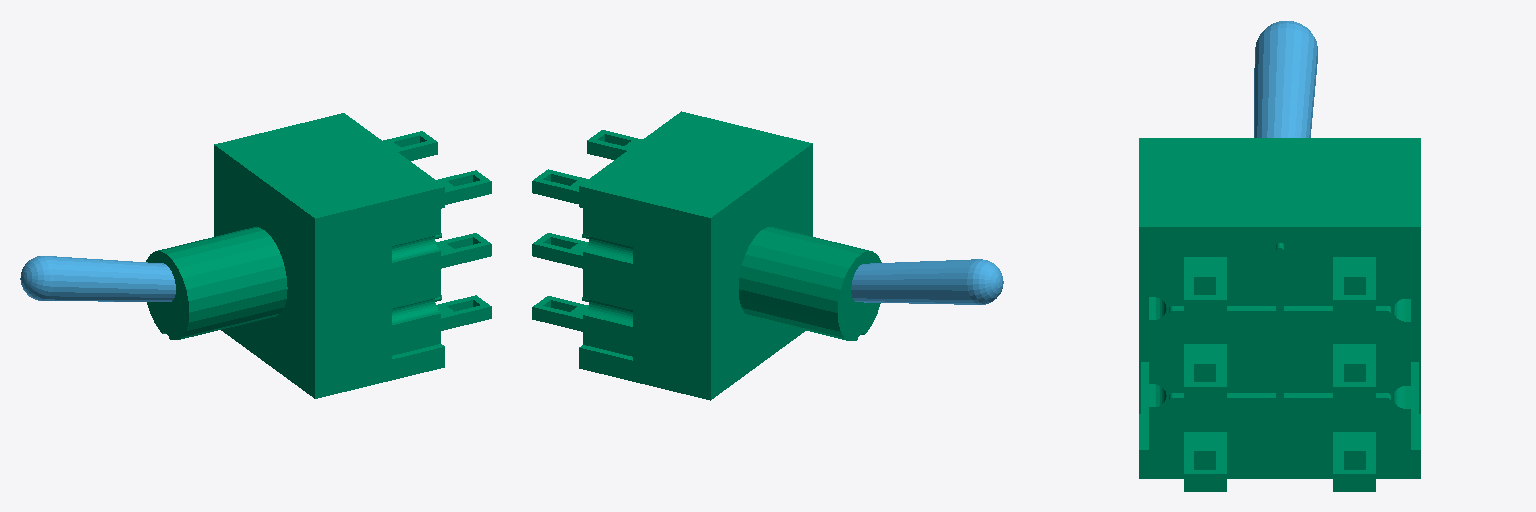
URDF robot description (partnet_efa22b97f47a8b3558451d47ce84cde7):
<robot name="partnet_efa22b97f47a8b3558451d47ce84cde7">
	<link name="base"><inertial><mass value="10" /><inertia ixx="1" ixy="0" ixz="0" iyy="1" iyz="0" izz="1" /></inertial></link>
	<link name="link_0">
		<visual name="switch-1">
			<origin xyz="-0.13821602207966688 0.025505218476348797 -0.36373281829417325" />
			<geometry>
				<mesh filename="textured_objs/original-30.obj" />
			</geometry>
		</visual>
		<collision>
			<origin xyz="-0.13821602207966688 0.025505218476348797 -0.36373281829417325" />
			<geometry>
				<mesh filename="textured_objs/original-30.obj" />
			</geometry>
		</collision>
	<inertial><mass value="10" /><inertia ixx="1" ixy="0" ixz="0" iyy="1" iyz="0" izz="1" /></inertial></link>
	<joint name="joint_0" type="revolute">
		<origin xyz="0.13821602207966688 -0.025505218476348797 0.36373281829417325" />
		<axis xyz="1 0 0" />
		<child link="link_0" />
		<parent link="link_1" />
		<limit effort="30" lower="0.0" upper="0.5235987755982988" velocity="1.0" />
	</joint>
	<link name="link_1">
		<visual name="base_body-2">
			<origin xyz="0 0 0" />
			<geometry>
				<mesh filename="textured_objs/original-29.obj" />
			</geometry>
		</visual>
		<visual name="base_body-2">
			<origin xyz="0 0 0" />
			<geometry>
				<mesh filename="textured_objs/original-21.obj" />
			</geometry>
		</visual>
		<visual name="base_body-2">
			<origin xyz="0 0 0" />
			<geometry>
				<mesh filename="textured_objs/original-28.obj" />
			</geometry>
		</visual>
		<visual name="base_body-2">
			<origin xyz="0 0 0" />
			<geometry>
				<mesh filename="textured_objs/original-22.obj" />
			</geometry>
		</visual>
		<visual name="base_body-2">
			<origin xyz="0 0 0" />
			<geometry>
				<mesh filename="textured_objs/original-26.obj" />
			</geometry>
		</visual>
		<visual name="base_body-2">
			<origin xyz="0 0 0" />
			<geometry>
				<mesh filename="textured_objs/original-3.obj" />
			</geometry>
		</visual>
		<visual name="base_body-2">
			<origin xyz="0 0 0" />
			<geometry>
				<mesh filename="textured_objs/original-2.obj" />
			</geometry>
		</visual>
		<visual name="base_body-2">
			<origin xyz="0 0 0" />
			<geometry>
				<mesh filename="textured_objs/original-8.obj" />
			</geometry>
		</visual>
		<visual name="base_body-2">
			<origin xyz="0 0 0" />
			<geometry>
				<mesh filename="textured_objs/original-9.obj" />
			</geometry>
		</visual>
		<visual name="base_body-2">
			<origin xyz="0 0 0" />
			<geometry>
				<mesh filename="textured_objs/original-5.obj" />
			</geometry>
		</visual>
		<visual name="base_body-2">
			<origin xyz="0 0 0" />
			<geometry>
				<mesh filename="textured_objs/original-6.obj" />
			</geometry>
		</visual>
		<visual name="base_body-2">
			<origin xyz="0 0 0" />
			<geometry>
				<mesh filename="textured_objs/original-15.obj" />
			</geometry>
		</visual>
		<visual name="base_body-2">
			<origin xyz="0 0 0" />
			<geometry>
				<mesh filename="textured_objs/original-23.obj" />
			</geometry>
		</visual>
		<visual name="base_body-2">
			<origin xyz="0 0 0" />
			<geometry>
				<mesh filename="textured_objs/original-11.obj" />
			</geometry>
		</visual>
		<visual name="base_body-2">
			<origin xyz="0 0 0" />
			<geometry>
				<mesh filename="textured_objs/original-18.obj" />
			</geometry>
		</visual>
		<visual name="base_body-2">
			<origin xyz="0 0 0" />
			<geometry>
				<mesh filename="textured_objs/original-25.obj" />
			</geometry>
		</visual>
		<visual name="base_body-2">
			<origin xyz="0 0 0" />
			<geometry>
				<mesh filename="textured_objs/original-17.obj" />
			</geometry>
		</visual>
		<visual name="base_body-2">
			<origin xyz="0 0 0" />
			<geometry>
				<mesh filename="textured_objs/original-12.obj" />
			</geometry>
		</visual>
		<visual name="base_body-2">
			<origin xyz="0 0 0" />
			<geometry>
				<mesh filename="textured_objs/original-24.obj" />
			</geometry>
		</visual>
		<visual name="base_body-2">
			<origin xyz="0 0 0" />
			<geometry>
				<mesh filename="textured_objs/original-20.obj" />
			</geometry>
		</visual>
		<visual name="base_body-2">
			<origin xyz="0 0 0" />
			<geometry>
				<mesh filename="textured_objs/original-14.obj" />
			</geometry>
		</visual>
		<collision>
			<origin xyz="0 0 0" />
			<geometry>
				<mesh filename="textured_objs/original-29.obj" />
			</geometry>
		</collision>
		<collision>
			<origin xyz="0 0 0" />
			<geometry>
				<mesh filename="textured_objs/original-21.obj" />
			</geometry>
		</collision>
		<collision>
			<origin xyz="0 0 0" />
			<geometry>
				<mesh filename="textured_objs/original-28.obj" />
			</geometry>
		</collision>
		<collision>
			<origin xyz="0 0 0" />
			<geometry>
				<mesh filename="textured_objs/original-22.obj" />
			</geometry>
		</collision>
		<collision>
			<origin xyz="0 0 0" />
			<geometry>
				<mesh filename="textured_objs/original-26.obj" />
			</geometry>
		</collision>
		<collision>
			<origin xyz="0 0 0" />
			<geometry>
				<mesh filename="textured_objs/original-3.obj" />
			</geometry>
		</collision>
		<collision>
			<origin xyz="0 0 0" />
			<geometry>
				<mesh filename="textured_objs/original-2.obj" />
			</geometry>
		</collision>
		<collision>
			<origin xyz="0 0 0" />
			<geometry>
				<mesh filename="textured_objs/original-8.obj" />
			</geometry>
		</collision>
		<collision>
			<origin xyz="0 0 0" />
			<geometry>
				<mesh filename="textured_objs/original-9.obj" />
			</geometry>
		</collision>
		<collision>
			<origin xyz="0 0 0" />
			<geometry>
				<mesh filename="textured_objs/original-5.obj" />
			</geometry>
		</collision>
		<collision>
			<origin xyz="0 0 0" />
			<geometry>
				<mesh filename="textured_objs/original-6.obj" />
			</geometry>
		</collision>
		<collision>
			<origin xyz="0 0 0" />
			<geometry>
				<mesh filename="textured_objs/original-15.obj" />
			</geometry>
		</collision>
		<collision>
			<origin xyz="0 0 0" />
			<geometry>
				<mesh filename="textured_objs/original-23.obj" />
			</geometry>
		</collision>
		<collision>
			<origin xyz="0 0 0" />
			<geometry>
				<mesh filename="textured_objs/original-11.obj" />
			</geometry>
		</collision>
		<collision>
			<origin xyz="0 0 0" />
			<geometry>
				<mesh filename="textured_objs/original-18.obj" />
			</geometry>
		</collision>
		<collision>
			<origin xyz="0 0 0" />
			<geometry>
				<mesh filename="textured_objs/original-25.obj" />
			</geometry>
		</collision>
		<collision>
			<origin xyz="0 0 0" />
			<geometry>
				<mesh filename="textured_objs/original-17.obj" />
			</geometry>
		</collision>
		<collision>
			<origin xyz="0 0 0" />
			<geometry>
				<mesh filename="textured_objs/original-12.obj" />
			</geometry>
		</collision>
		<collision>
			<origin xyz="0 0 0" />
			<geometry>
				<mesh filename="textured_objs/original-24.obj" />
			</geometry>
		</collision>
		<collision>
			<origin xyz="0 0 0" />
			<geometry>
				<mesh filename="textured_objs/original-20.obj" />
			</geometry>
		</collision>
		<collision>
			<origin xyz="0 0 0" />
			<geometry>
				<mesh filename="textured_objs/original-14.obj" />
			</geometry>
		</collision>
	<inertial><mass value="10" /><inertia ixx="1" ixy="0" ixz="0" iyy="1" iyz="0" izz="1" /></inertial></link>
	<joint name="joint_1" type="fixed">
		<origin rpy="1.570796326794897 0 -1.570796326794897" xyz="0 0 0" />
		<child link="link_1" />
		<parent link="base" />
	</joint>
</robot>

--- What the picture shows (computed from the rendered views, not written in the file) ---
3 views of the same robot in one strip: view 1: azimuth 30°, elevation 25°; view 2: azimuth 150°, elevation 25°; view 3: azimuth 270°, elevation 25° (orthographic).
Robot: partnet_efa22b97f47a8b3558451d47ce84cde7 — 3 links, 2 joints (1 revolute, 1 fixed); root link base; default pose: all joints at 0.
Links seen in each view (by area): view 1: link_1, link_0; view 2: link_1, link_0; view 3: link_1, link_0.
Boxes of the visible links, x1,y1,x2,y2 form: link_1: [146, 113, 491, 398]; link_0: [20, 256, 175, 301]; link_1: [532, 111, 881, 400]; link_0: [851, 259, 1003, 304]; link_1: [1139, 138, 1420, 491]; link_0: [1254, 21, 1317, 137].
Size in the robot's own frame: 1.53 by 0.6207 by 0.6113 metres.
Meshes: 22 distinct files referenced, 22 mesh visuals loaded (22 OBJ).